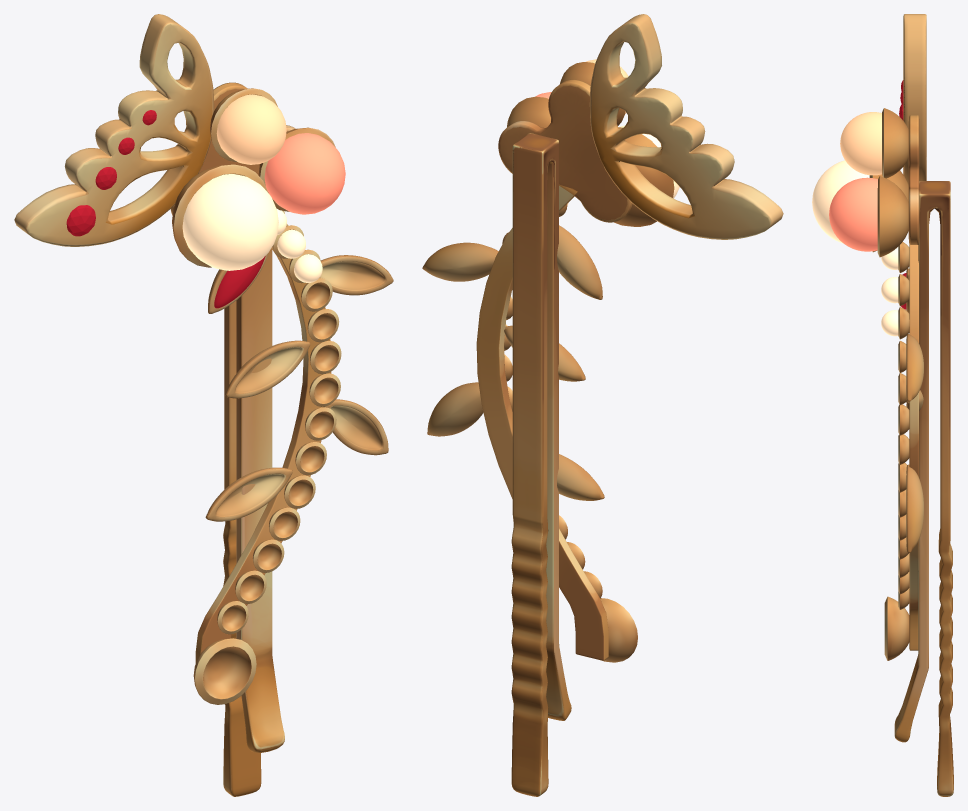
3 renders of one model, left to right at view 1: azimuth 30°, elevation 25°; view 2: azimuth 150°, elevation 25°; view 3: azimuth 270°, elevation 25°, orthographic. The views are drawn at different scales.
Parts seen in each view (by area): view 1: hairakuse; view 2: hairakuse; view 3: hairakuse.
Part boxes in pixels (<box>): hairakuse: <box>14,14,393,796</box>; hairakuse: <box>422,14,783,796</box>; hairakuse: <box>812,14,953,796</box>.
Bounding box in the file's own units: 72.64 × 152 × 26.6.
